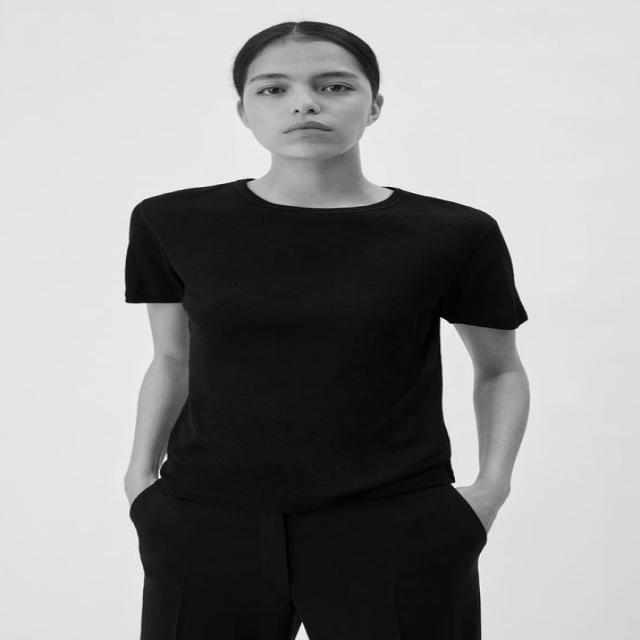shoulder: (128, 182, 504, 252)
